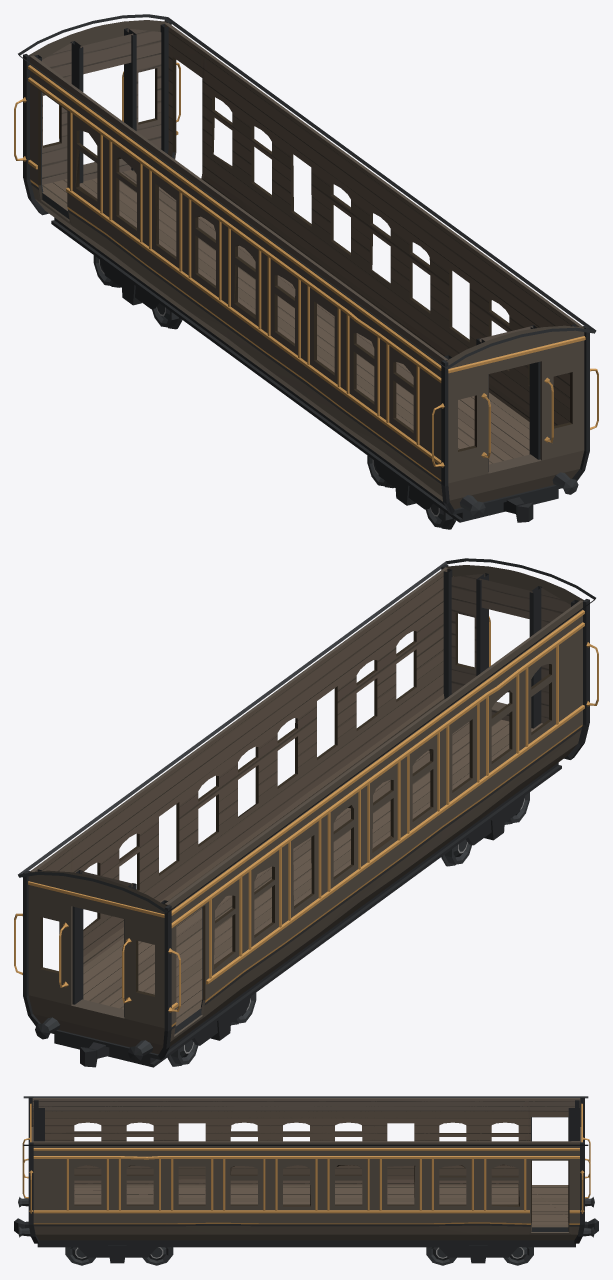
The model's file is SM_Veh_Train_Carriage_01_No_Ceiling.fbx.
3 views of the same model, one above another, from view 1: azimuth 30°, elevation 25°; view 2: azimuth 150°, elevation 25°; view 3: azimuth 270°, elevation 25° (orthographic). The views are drawn at different scales.
Parts seen in each view (by area): view 1: SM_Veh_Train_Carriage_01; view 2: SM_Veh_Train_Carriage_01; view 3: SM_Veh_Train_Carriage_01.
Boxes of the visible parts, x1=… form: SM_Veh_Train_Carriage_01: x1=14, y1=14, x2=598, y2=529; SM_Veh_Train_Carriage_01: x1=14, y1=558, x2=598, y2=1067; SM_Veh_Train_Carriage_01: x1=14, y1=1096, x2=598, y2=1265.
Size of the model in its own units: 377 by 470 by 1734.
